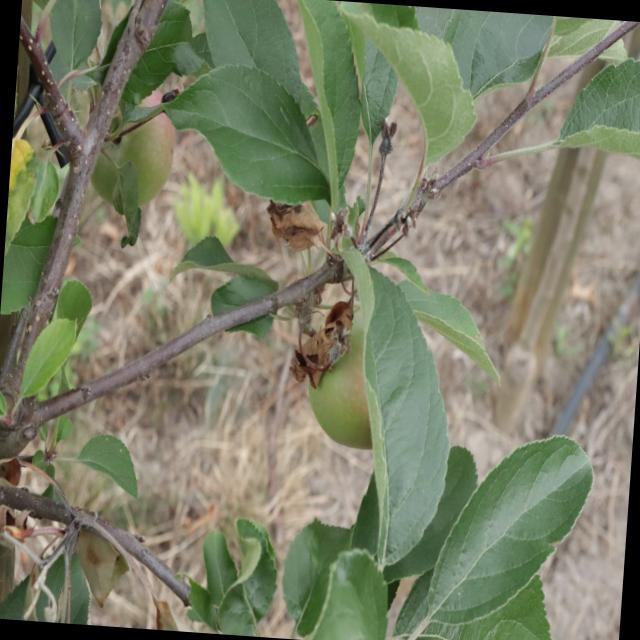-FireBlight-: (308, 278, 364, 354), (262, 205, 332, 253)
